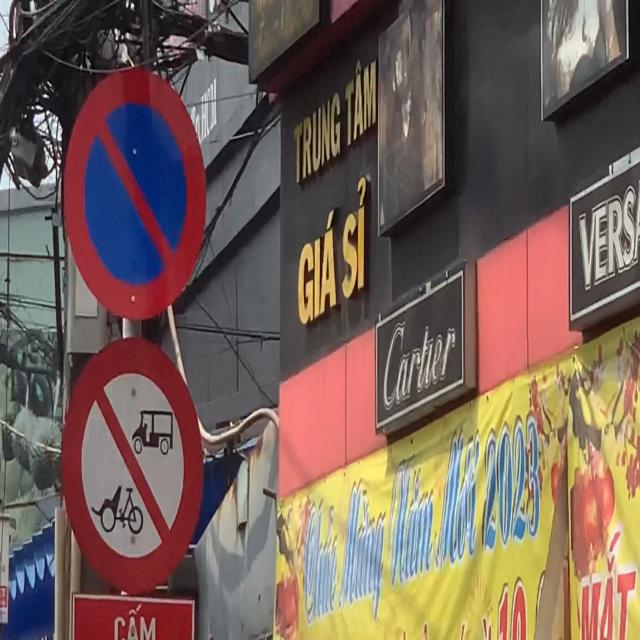Cam con lai: (61, 334, 206, 596)
Cam do: (60, 64, 214, 319)
